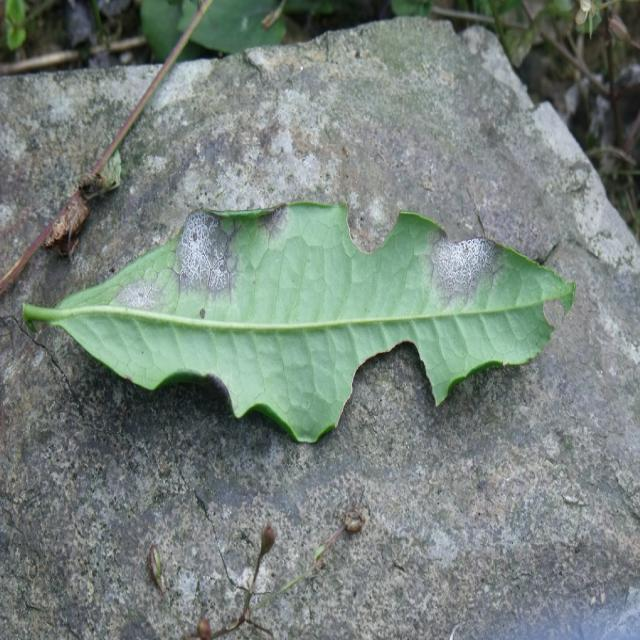Tea exobasidium blight: (426, 220, 499, 294), (176, 207, 233, 294), (121, 262, 165, 320), (252, 194, 294, 246)
